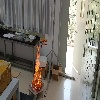fire: (31, 45, 42, 92)
